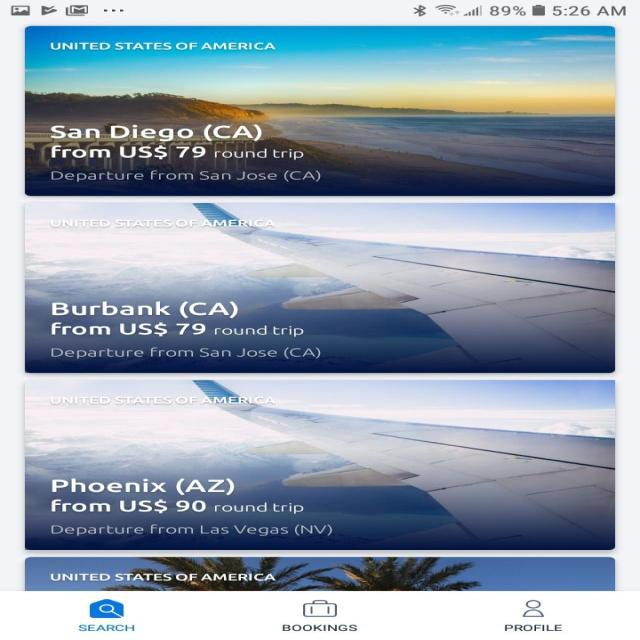Icon: (88, 598, 124, 618), (302, 599, 337, 617), (521, 599, 544, 617)
Image: (24, 202, 615, 373), (24, 26, 615, 196), (24, 380, 614, 550), (24, 556, 615, 591)
Text: (51, 477, 304, 514), (51, 300, 304, 336), (49, 124, 304, 159), (50, 524, 332, 536), (51, 170, 321, 182), (51, 346, 321, 358), (48, 41, 275, 51), (49, 220, 276, 228), (49, 396, 276, 404), (49, 572, 276, 580), (282, 624, 358, 631), (504, 624, 562, 631), (78, 624, 135, 631)
